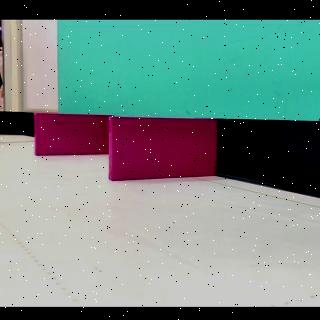xparking: (111, 117, 218, 179), (37, 113, 107, 157)
